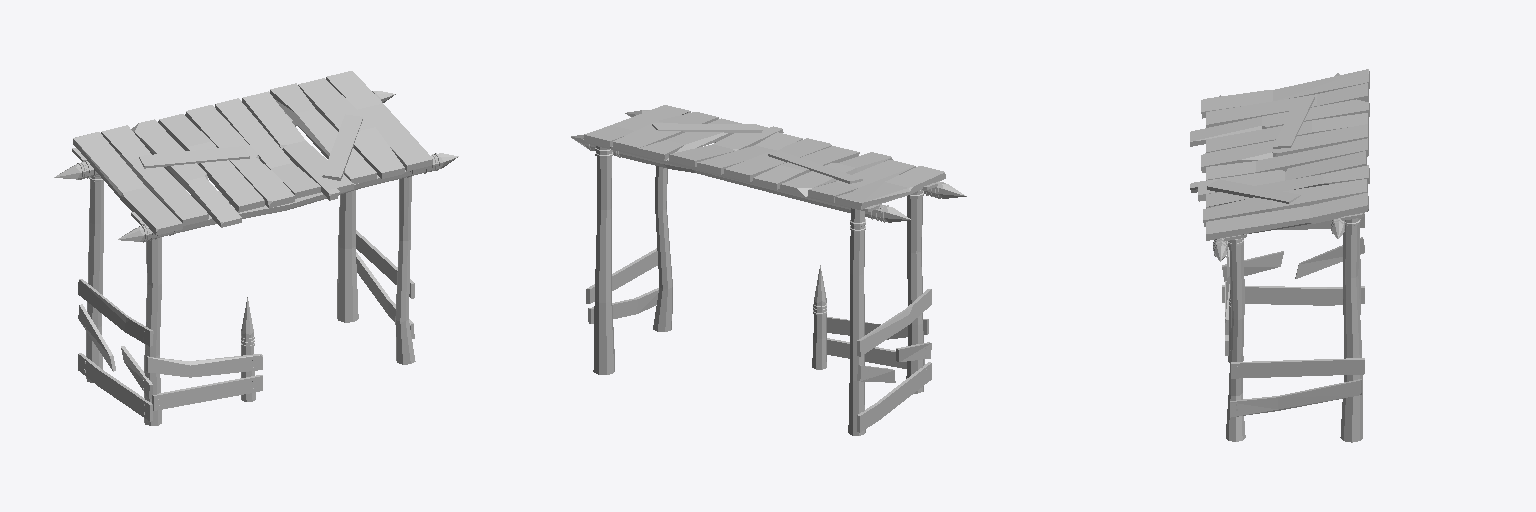
The model's file is Stall.obj.
The picture shows the model from 3 angles: view 1: azimuth 30°, elevation 25°; view 2: azimuth 150°, elevation 25°; view 3: azimuth 270°, elevation 25°; orthographic projection.
Parts seen in each view (by area): view 1: Stall; view 2: Stall; view 3: Stall.
Part boxes in pixels (x1,y1,x2,y2): Stall: (54,71,458,425); Stall: (571,105,966,435); Stall: (1190,69,1369,442).
Size of the model in its own units: 4.8 by 3.16 by 2.16.